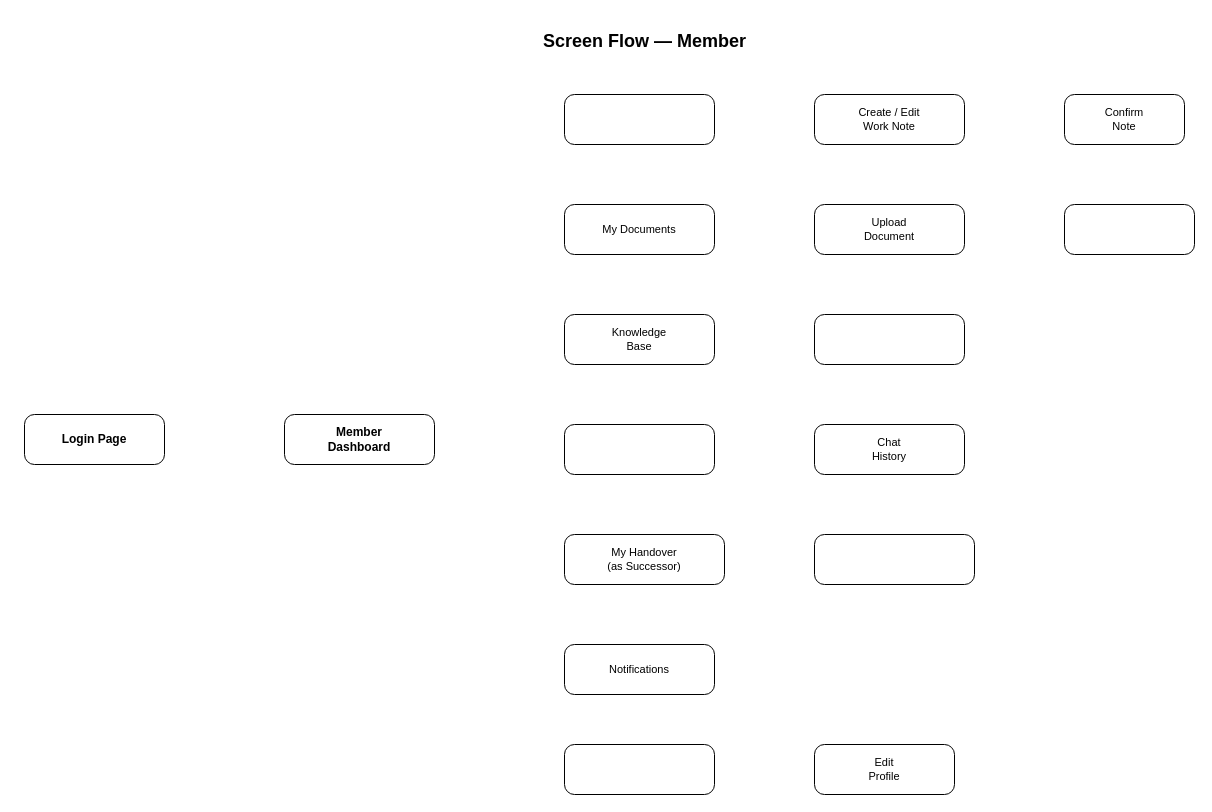
Some shapes in this 1212 by 812 pixel diagram are drawn without their labels. The shapes that lost their labels are listed below. From the top down, each one's centre as x and y in pixels, then its label:
At (639,119): "My Work Notes".
At (1129,229): "Ingestion Status".
At (889,339): "Propose Knowledge".
At (639,449): "AI Chat Assistant".
At (894,559): "Successor Learning Path".
At (639,769): "Personal Profile".
